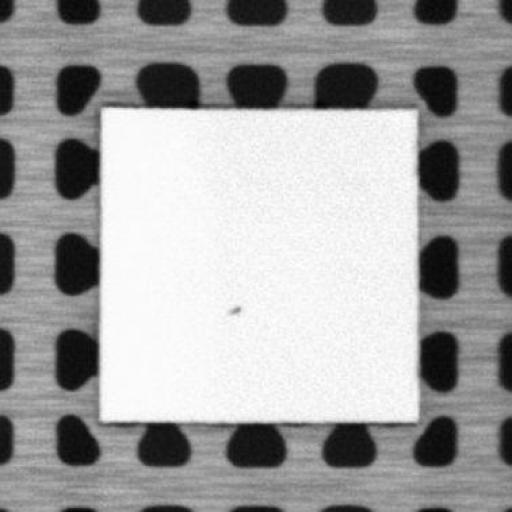DIE_INK: (223, 301, 240, 316)
